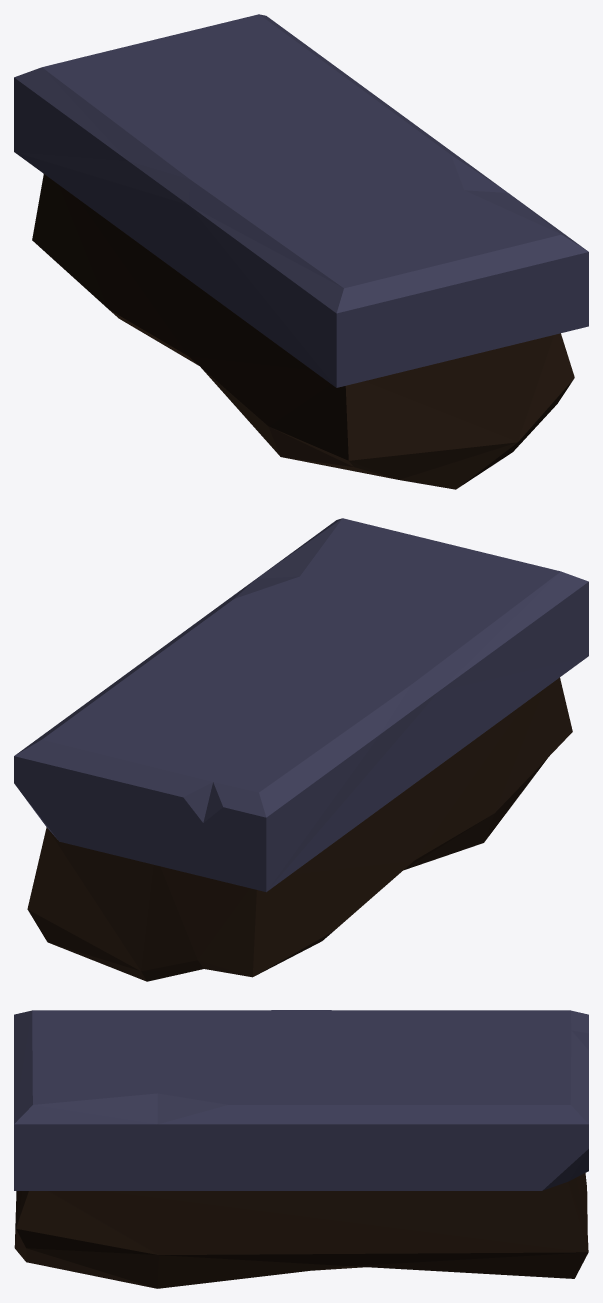
The model's file is SFFA_Brush.fbx.
3 renders of one model, top to bottom at view 1: azimuth 30°, elevation 25°; view 2: azimuth 150°, elevation 25°; view 3: azimuth 270°, elevation 25°, orthographic. The views are drawn at different scales.
Parts seen in each view (by area): view 1: SFFA_Brush; view 2: SFFA_Brush; view 3: SFFA_Brush.
Part boxes in pixels (left/top/right/bottom): SFFA_Brush: left=14, top=14, right=588, bottom=489; SFFA_Brush: left=14, top=518, right=588, bottom=981; SFFA_Brush: left=14, top=1010, right=588, bottom=1288.
Bounding box in the file's own units: 8.57 × 7.56 × 18.96.
